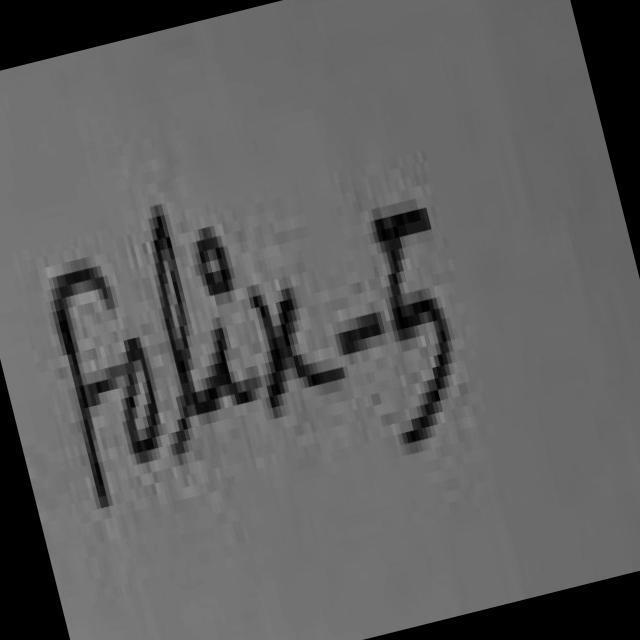5: (378, 207, 452, 437)
F: (55, 266, 123, 512)
i: (206, 319, 258, 409), (200, 236, 232, 295)
l: (154, 215, 215, 450)
o: (126, 337, 160, 463)
x: (247, 278, 344, 417)
